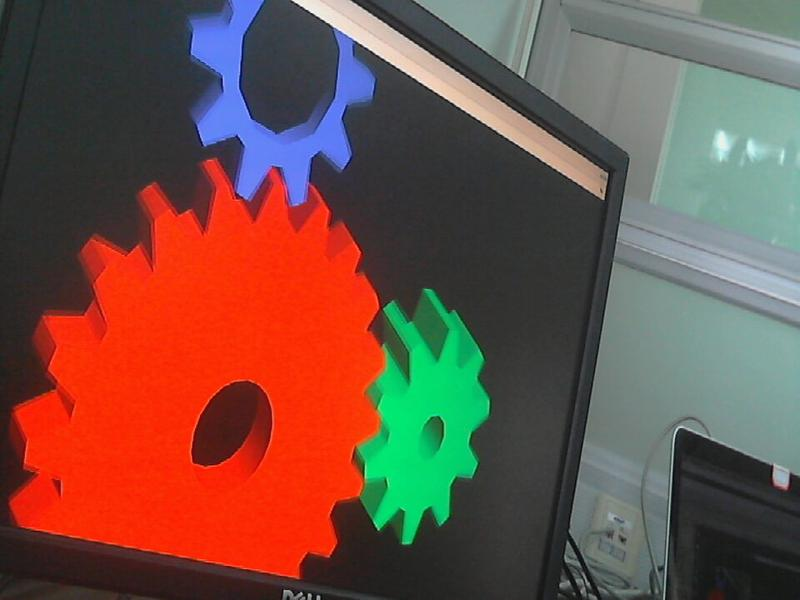glxgears_pass: (7, 1, 493, 583)
